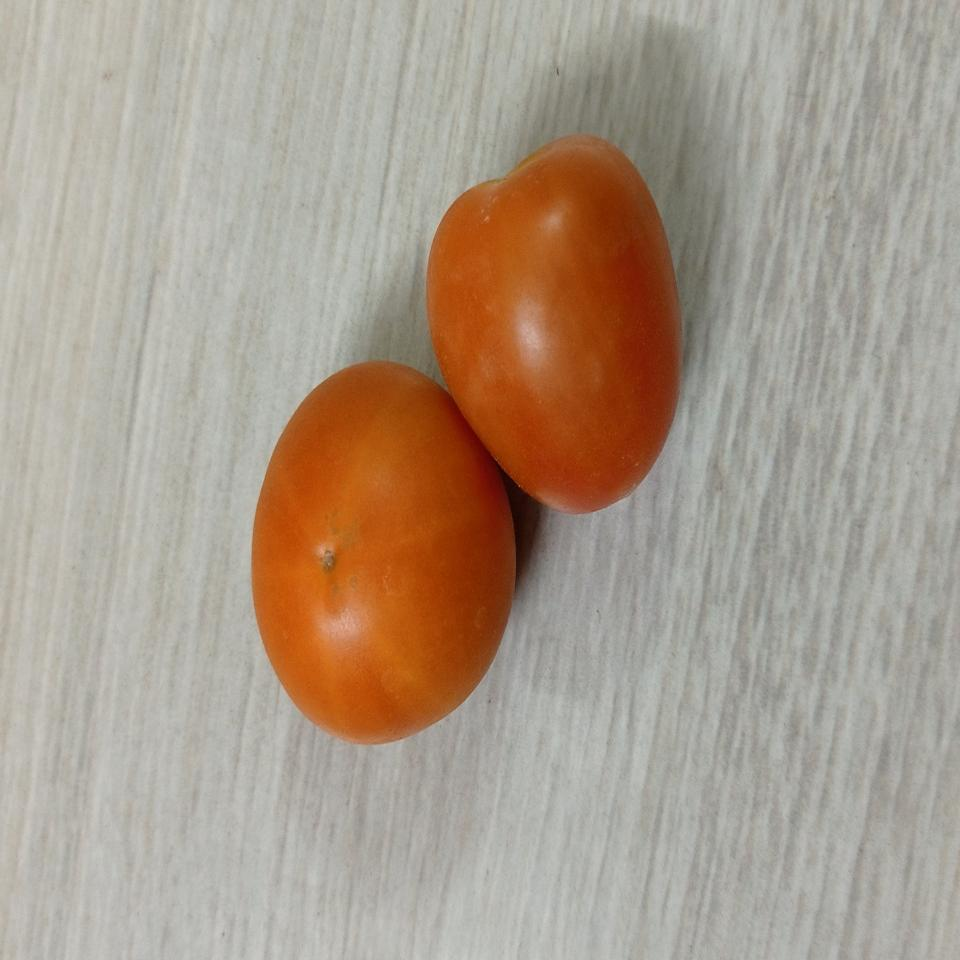Healthy: (239, 352, 522, 751), (419, 126, 686, 522)
